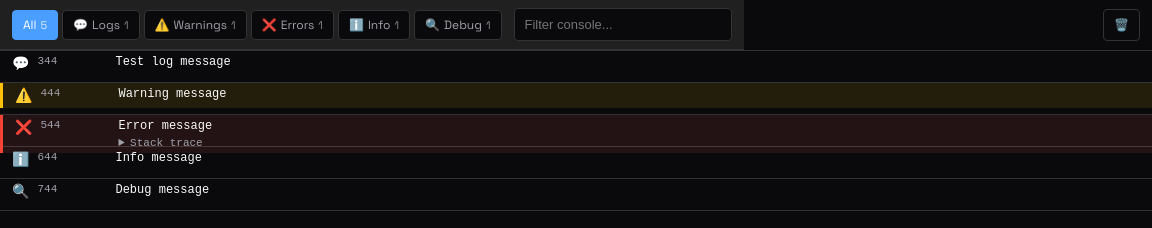
Test: ConsoleTab › should filter logs by level
# Click on "Errors" filter
Click the text "Errors" at point(297, 24), box 281,16 -> 314,32
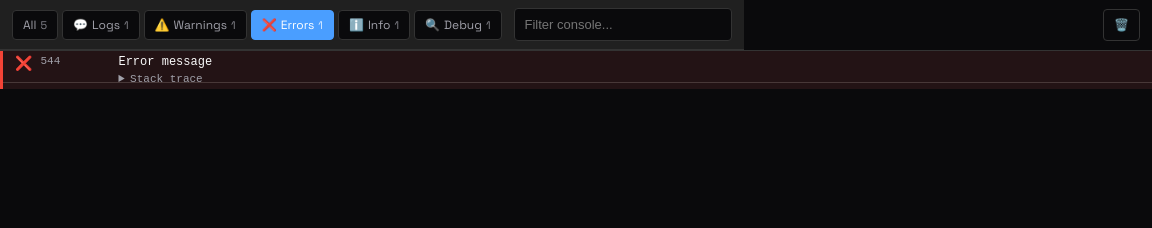
Check: the text "Error message" is shown, box 118,55 -> 212,69
Check: the text "Test log message" is gone
Check: the text "Warning message" is gone
